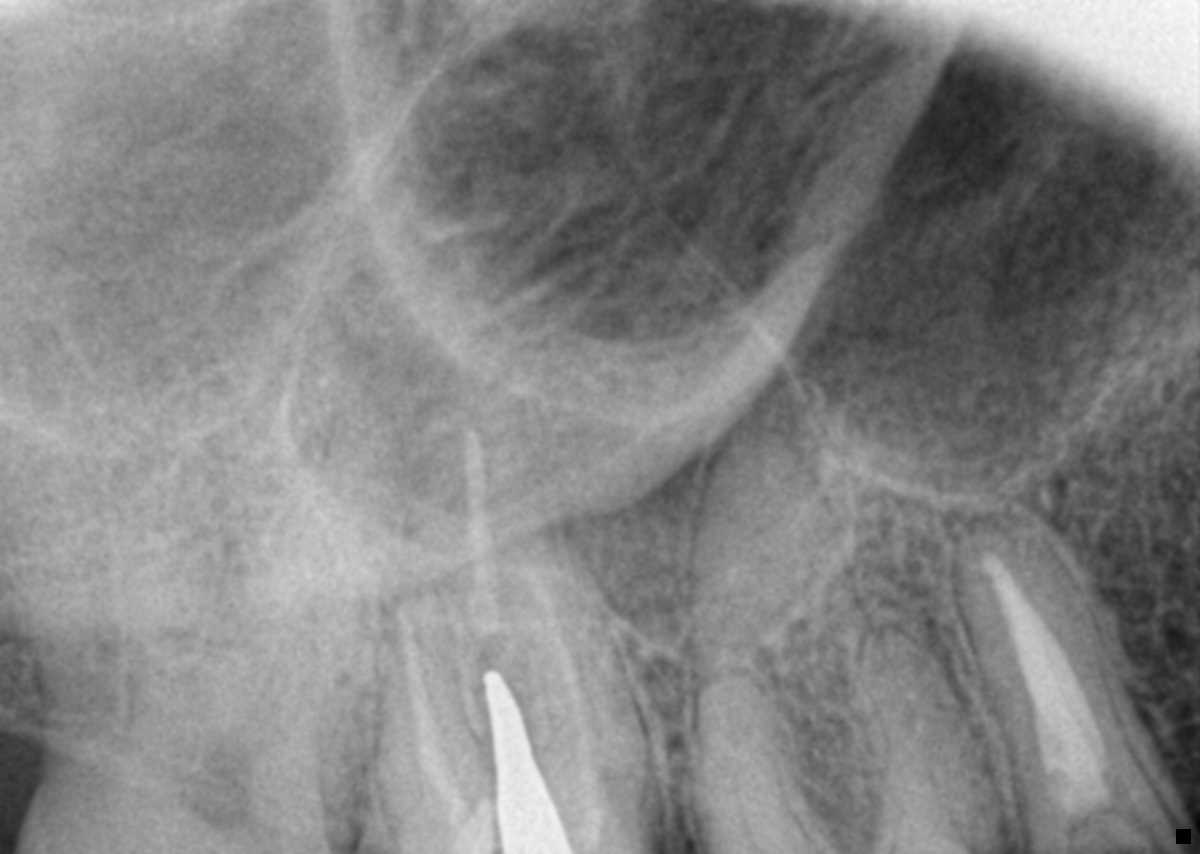Distal Root: (0, 253, 191, 714), (377, 591, 491, 837), (692, 672, 828, 850)
Main Root: (953, 517, 1155, 819)
Mesial Root: (169, 265, 399, 756), (504, 549, 657, 788), (860, 629, 1004, 849)
Palatal Root: (684, 427, 959, 845), (408, 358, 615, 853)
Root Canal Filling: (982, 550, 1107, 801), (517, 557, 600, 770), (402, 619, 469, 818), (466, 428, 497, 626)
